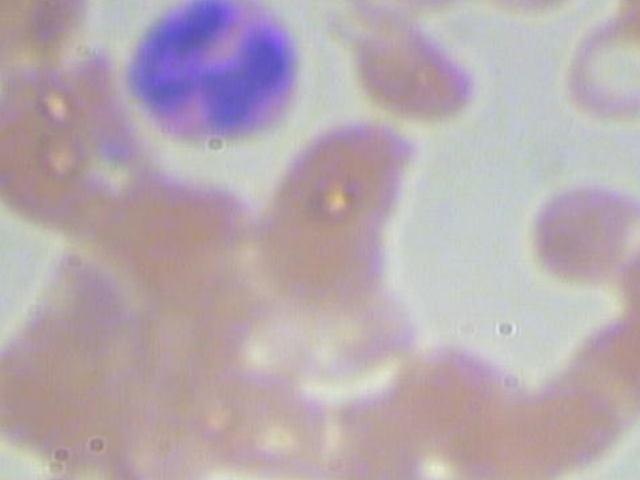WBC: (107, 0, 313, 147)
